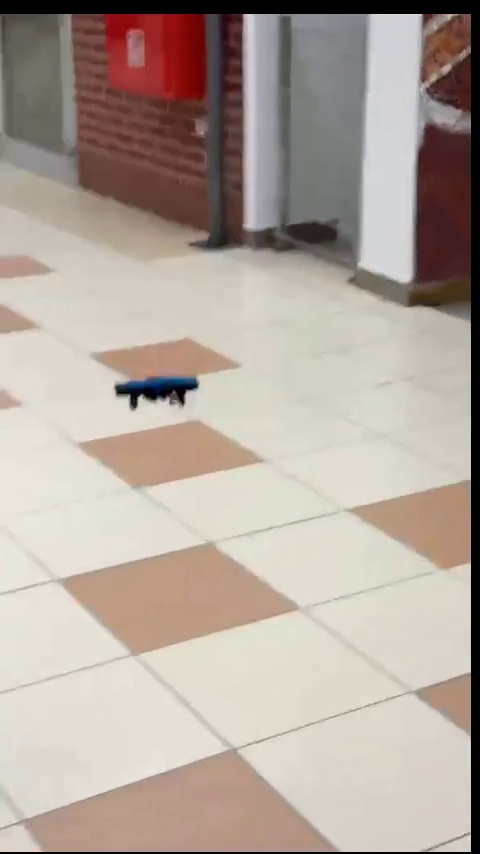drone: (116, 378, 201, 409)
